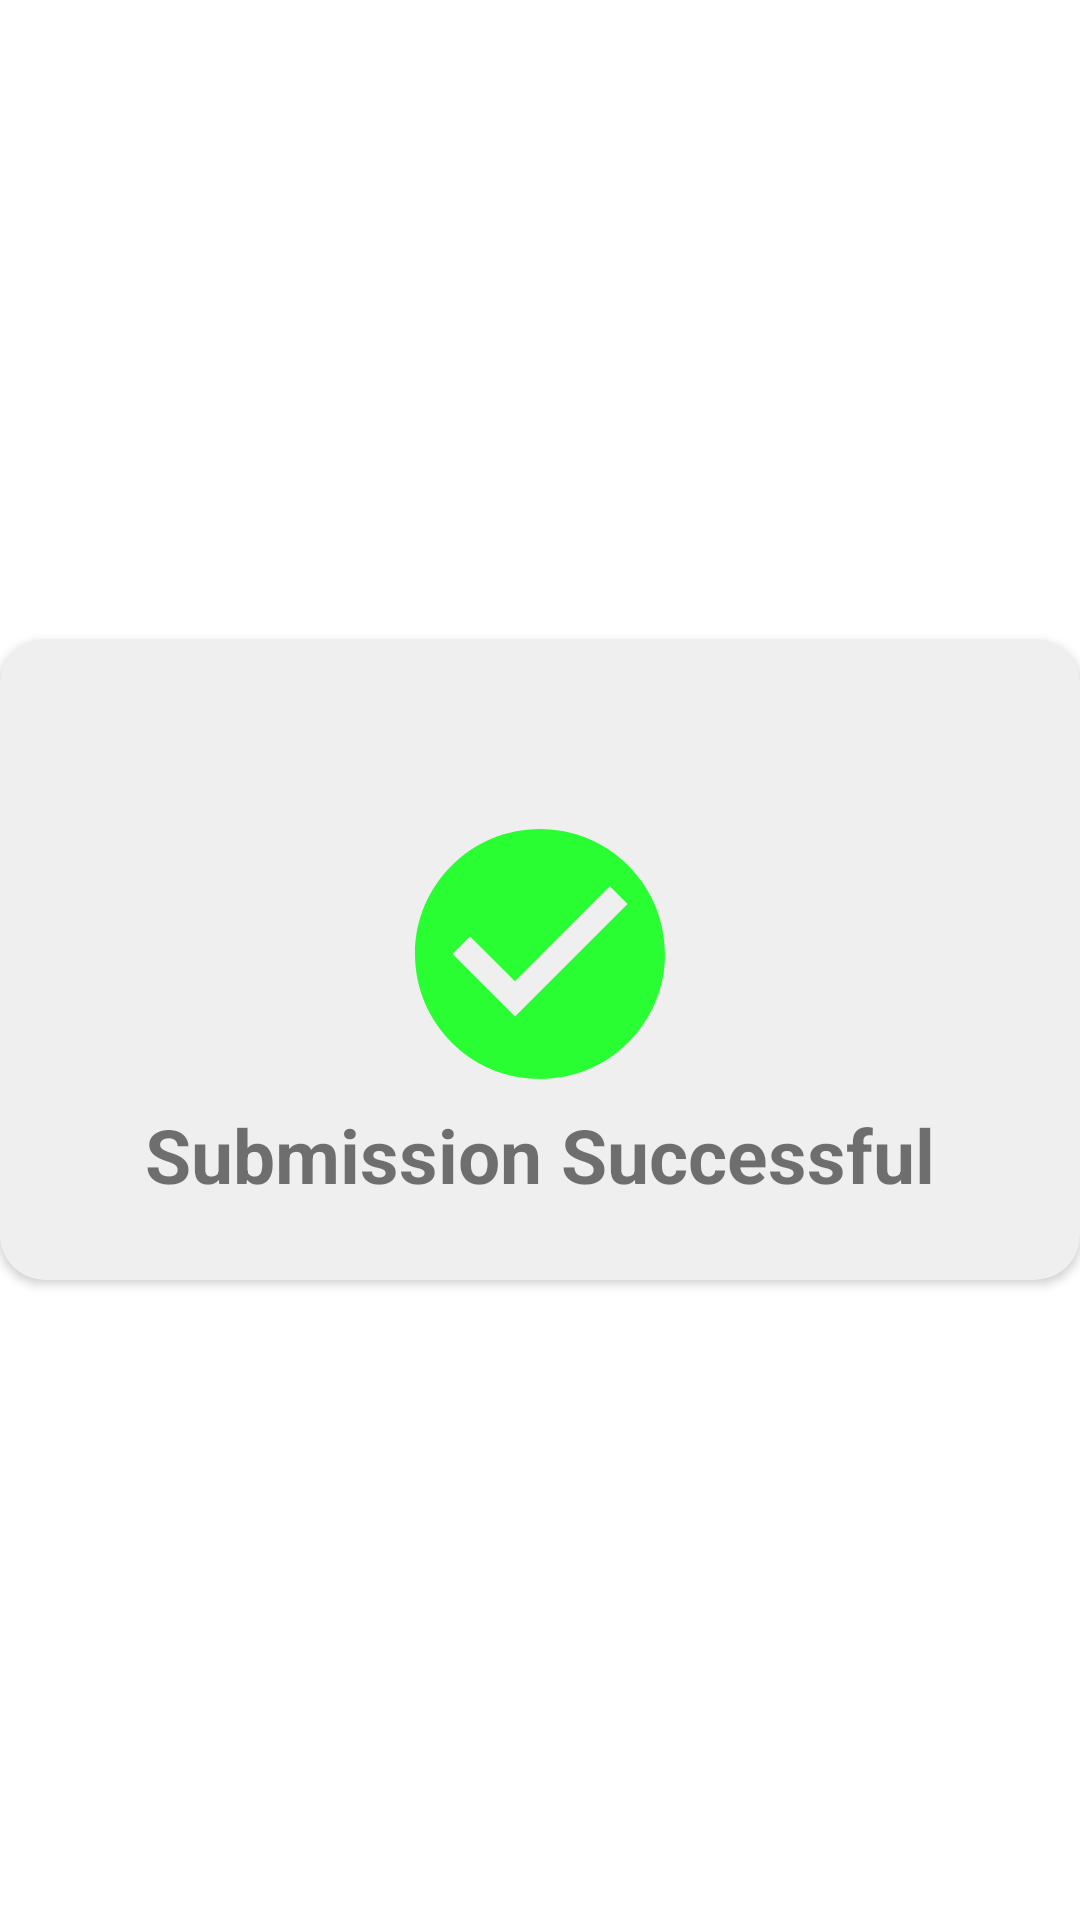

Icon click points for this 1080*1920 phone screenshot, format (x,y):
check circle: (540,954)
